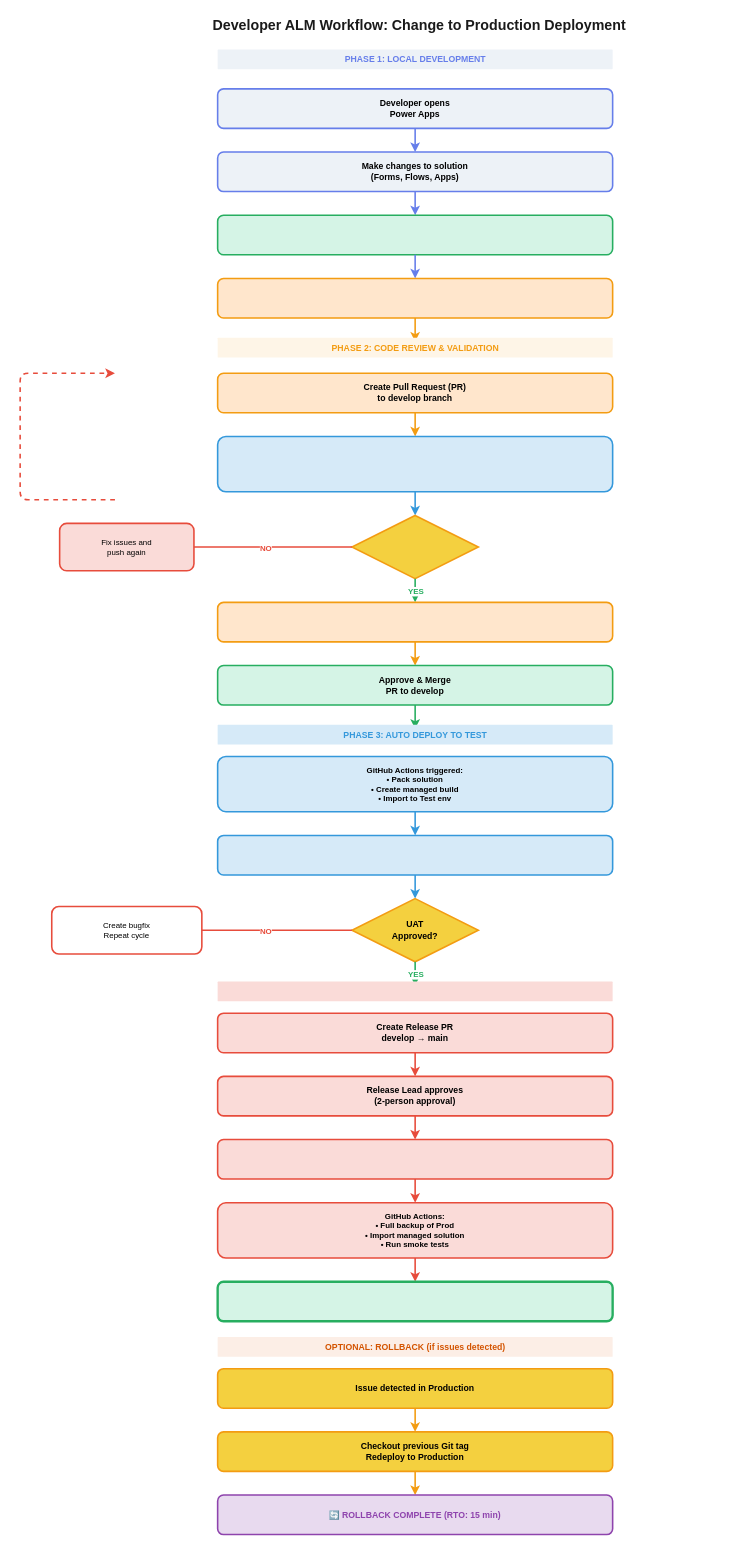
This 752x1548 diagram has some shape labels left out. Here are the shapes that lost their labels. From the top down, the centre of each, then its label:
At pixel 414 234: "Changes auto-synced to Git (Git Integration enabled)".
At pixel 414 297: "Developer pushes to GitHub git push origin feature/...".
At pixel 414 463: "GitHub Actions runs: • Export solution • Solution Checker • Run unit tests".
At pixel 415 546: "Tests Pass?".
At pixel 414 621: "Team Lead reviews PR Checks code quality".
At pixel 414 854: "QA & Business test in Test Environment".
At pixel 414 991: "PHASE 4: RELEASE TO PRODUCTION".
At pixel 414 1158: "Merge & Tag Release (v1.2.0)".
At pixel 414 1301: "🟢 DEPLOYED TO PRODUCTION".
